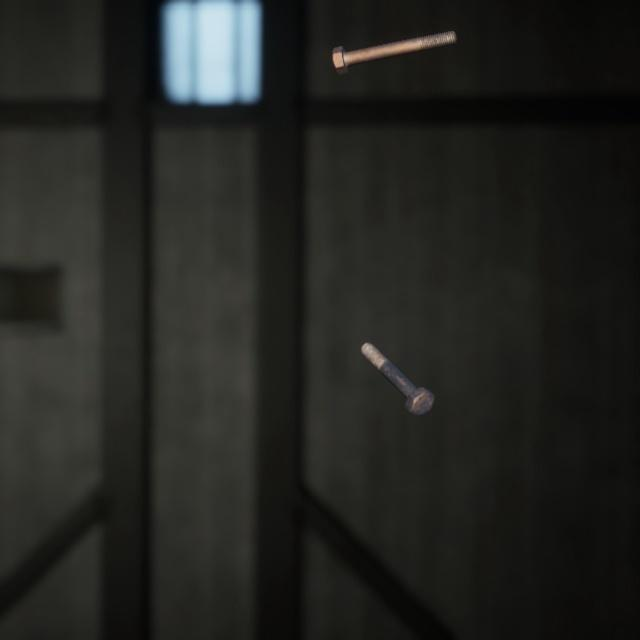bolt: (327, 17, 461, 70), (356, 320, 439, 402)
